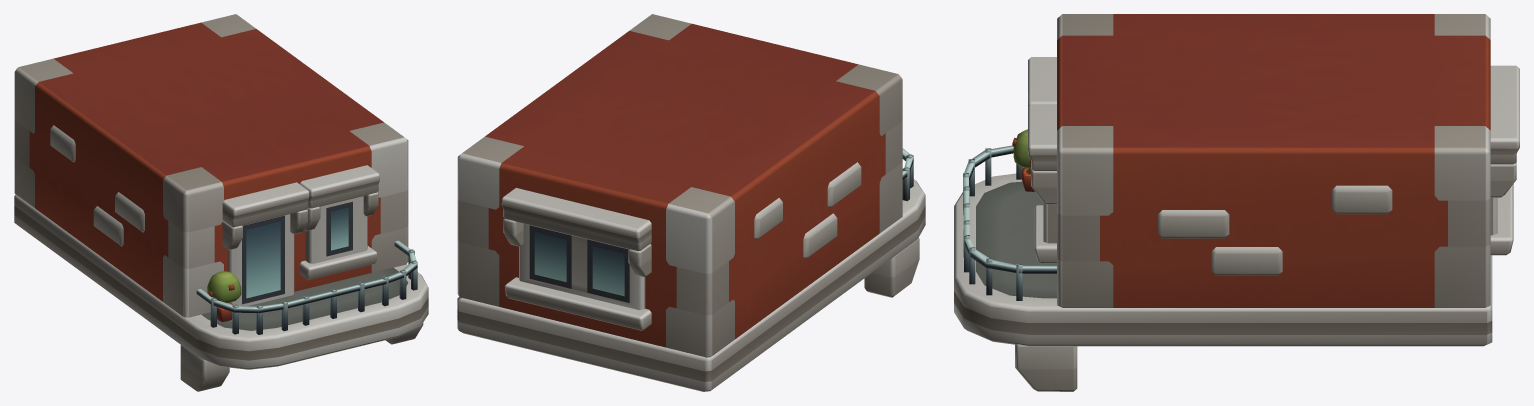
Rendered from appartment_type3_balcony_red.fbx.
3 renders of one model, left to right at view 1: azimuth 30°, elevation 25°; view 2: azimuth 150°, elevation 25°; view 3: azimuth 270°, elevation 25°, orthographic. The views are drawn at different scales.
Visible parts, largest first — view 1: appartment_type3_balcony_red; view 2: appartment_type3_balcony_red; view 3: appartment_type3_balcony_red.
Part boxes in pixels (bbox=[...]): appartment_type3_balcony_red: bbox=[14, 14, 428, 391]; appartment_type3_balcony_red: bbox=[457, 14, 925, 391]; appartment_type3_balcony_red: bbox=[954, 14, 1519, 391].
Bounding box in the file's own units: 628 × 505 × 1056.
